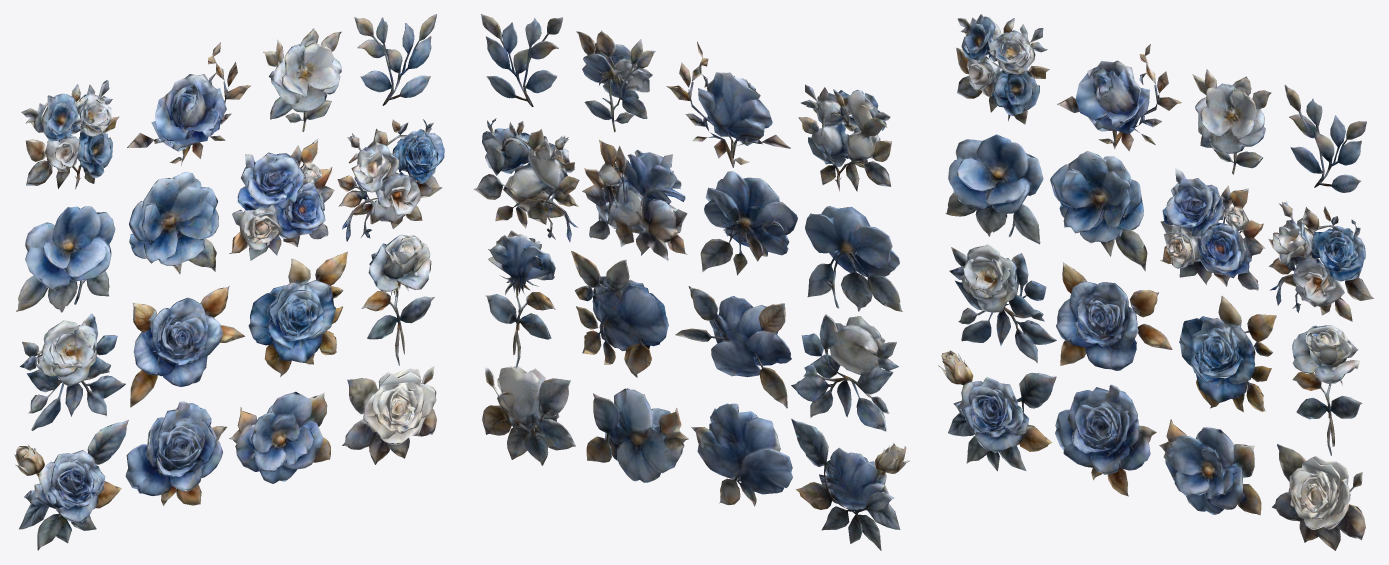
3 views of the same model, side by side, from view 1: azimuth 30°, elevation 25°; view 2: azimuth 150°, elevation 25°; view 3: azimuth 330°, elevation 25° (orthographic).
Parts seen in each view (by area): view 1: Mesh 13, Mesh 25, Mesh 16, Mesh 2, Mesh 10, Mesh 1, Mesh 8, Mesh 7, Mesh 4, Mesh 3, Mesh 12, Mesh 18 (+4 smaller); view 2: Mesh 13, Mesh 25, Mesh 1, Mesh 3, Mesh 16, Mesh 2, Mesh 10, Mesh 8, Mesh 4, Mesh 12, Mesh 7, Mesh 18 (+4 smaller); view 3: Mesh 13, Mesh 10, Mesh 25, Mesh 1, Mesh 2, Mesh 7, Mesh 16, Mesh 8, Mesh 3, Mesh 4, Mesh 12, Mesh 18 (+4 smaller).
Part boxes in pixels (left/top/right/bottom): Mesh 13: left=229, top=138, right=334, bottom=260; Mesh 25: left=337, top=119, right=444, bottom=241; Mesh 16: left=248, top=251, right=347, bottom=376; Mesh 2: left=16, top=206, right=115, bottom=312; Mesh 10: left=130, top=286, right=244, bottom=407; Mesh 1: left=14, top=419, right=128, bottom=550; Mesh 8: left=125, top=401, right=227, bottom=505; Mesh 7: left=129, top=171, right=218, bottom=273; Mesh 4: left=21, top=80, right=119, bottom=189; Mesh 3: left=20, top=313, right=125, bottom=430; Mesh 12: left=229, top=391, right=330, bottom=483; Mesh 18: left=342, top=366, right=436, bottom=464; Mesh 13: left=582, top=139, right=687, bottom=260; Mesh 25: left=473, top=118, right=579, bottom=242; Mesh 1: left=791, top=418, right=909, bottom=550; Mesh 3: left=791, top=314, right=898, bottom=431; Mesh 16: left=571, top=251, right=668, bottom=377; Mesh 2: left=805, top=206, right=902, bottom=311; Mesh 10: left=675, top=286, right=791, bottom=408; Mesh 8: left=691, top=403, right=792, bottom=506; Mesh 4: left=798, top=84, right=891, bottom=191; Mesh 12: left=586, top=388, right=688, bottom=482; Mesh 7: left=700, top=171, right=797, bottom=275; Mesh 18: left=482, top=365, right=575, bottom=465; Mesh 13: left=1160, top=168, right=1265, bottom=290; Mesh 10: left=1056, top=262, right=1172, bottom=370; Mesh 25: left=1268, top=201, right=1374, bottom=321; Mesh 1: left=938, top=350, right=1056, bottom=471; Mesh 2: left=945, top=134, right=1043, bottom=244; Mesh 7: left=1050, top=151, right=1147, bottom=271; Mesh 16: left=1179, top=295, right=1276, bottom=412; Mesh 8: left=1055, top=384, right=1156, bottom=496; Mesh 3: left=949, top=244, right=1056, bottom=363; Mesh 4: left=956, top=14, right=1049, bottom=124; Mesh 12: left=1159, top=419, right=1261, bottom=515; Mesh 18: left=1272, top=444, right=1365, bottom=550.
Size of the model in its own units: 1.85 by 1.9 by 0.1246.
16 materials, 16 textured.
